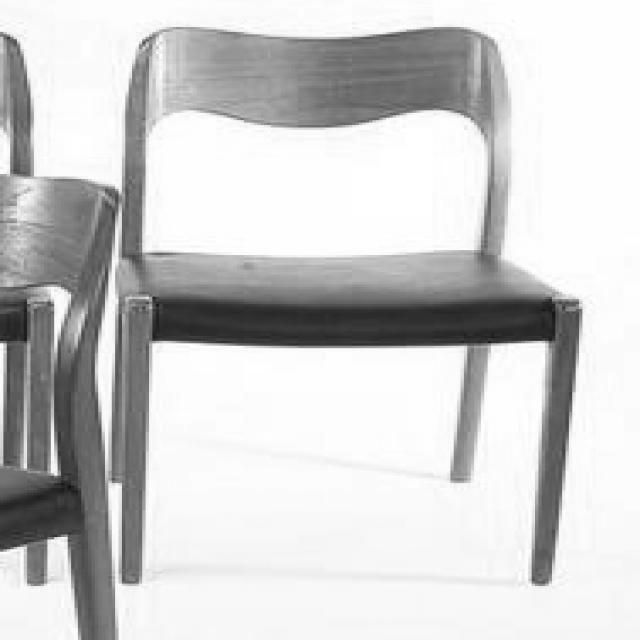chair: (112, 6, 586, 594), (0, 164, 126, 638)
